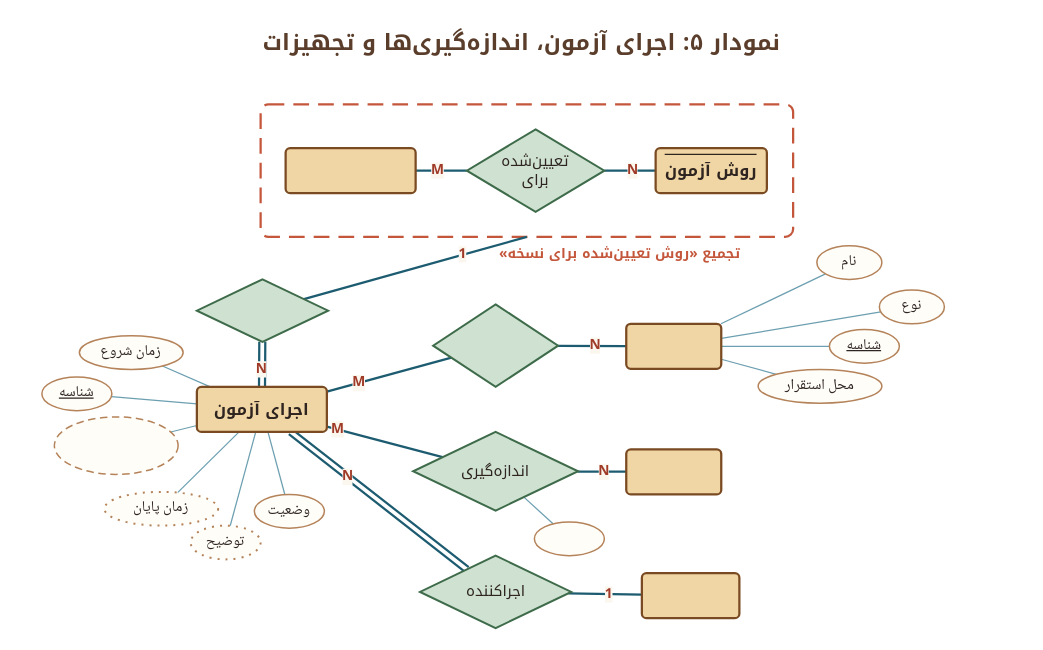
Image size: 1043x650. Some labels were removed from this diagram. Each missing label, with the centre of its shape:
"اجرا روی" belongs at (x=261, y=310).
"استفاده از" belongs at (x=495, y=345).
"تجهیز" belongs at (x=673, y=345).
"معیار" belongs at (x=673, y=471).
"مقدار" belongs at (x=568, y=538).
"نتیجه‌ی اجرا (مشتق)" belongs at (x=115, y=445).
"نسخه‌ی نمونه" belongs at (x=350, y=170).
"پژوهشگر" belongs at (x=690, y=595).
